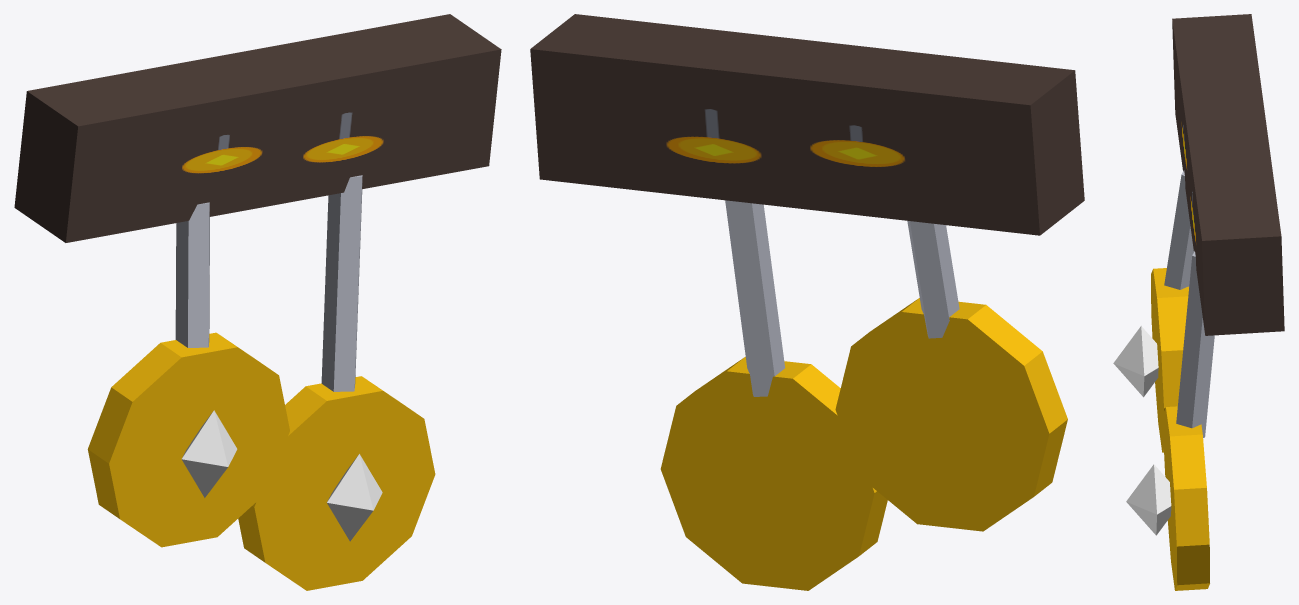
The model's file is trophy_counter_2.glb.
3 views of the same model, side by side, from view 1: azimuth 30°, elevation 25°; view 2: azimuth 150°, elevation 25°; view 3: azimuth 270°, elevation 25° (orthographic). The views are drawn at different scales.
Parts seen in each view (by area): view 1: wear_trophy_counter_2_00_display; view 2: wear_trophy_counter_2_00_display; view 3: wear_trophy_counter_2_00_display.
Boxes of the visible parts, left/top/right/bottom form: wear_trophy_counter_2_00_display: left=14, top=14, right=501, bottom=590; wear_trophy_counter_2_00_display: left=530, top=14, right=1084, bottom=590; wear_trophy_counter_2_00_display: left=1113, top=14, right=1284, bottom=590.
Bounding box in the file's own units: 0.3576 × 0.3954 × 0.1351.
Materials: 4 (1 with a texture image).
